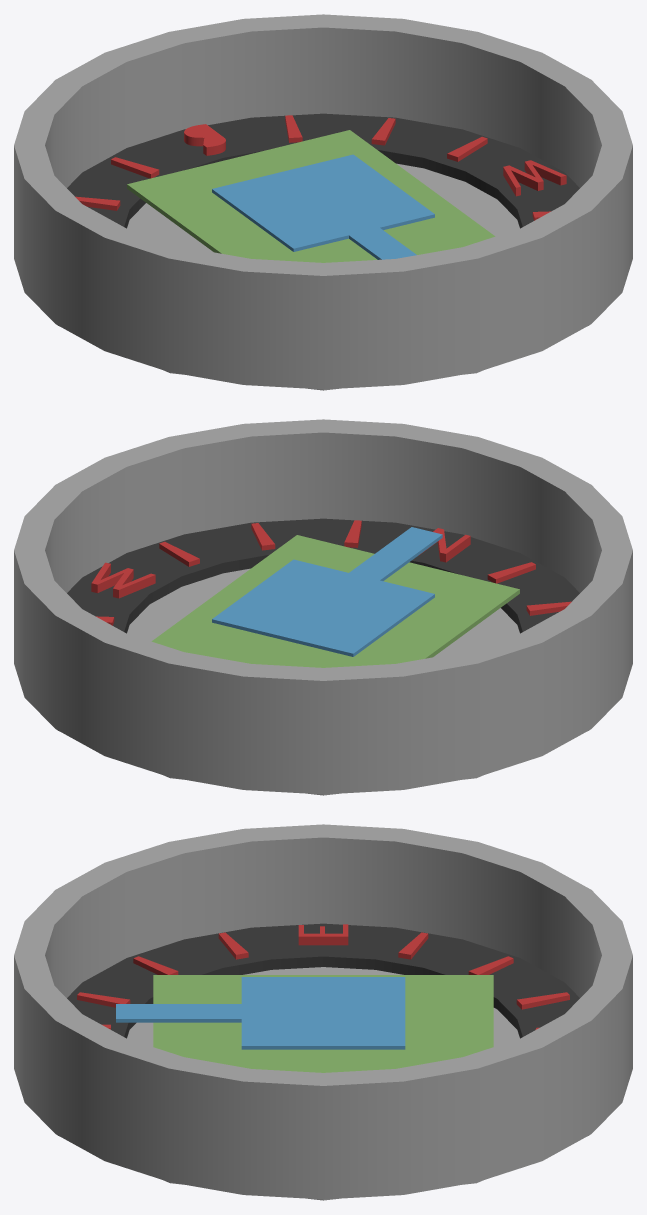
File: Tank_Compass_Meshes_12_4.fbx
3 renders of one model, top to bottom at view 1: azimuth 30°, elevation 25°; view 2: azimuth 150°, elevation 25°; view 3: azimuth 270°, elevation 25°, orthographic.
Parts seen in each view (by area): view 1: Compass_Body, NWSE_Body, Body_Spindle, Turret_Spindle, Dashes, W, S; view 2: Compass_Body, Body_Spindle, NWSE_Body, Turret_Spindle, Dashes, W, N; view 3: Compass_Body, NWSE_Body, Body_Spindle, Turret_Spindle, Dashes, E.
Part boxes in pixels (bbox=[...]): Compass_Body: bbox=[14, 14, 632, 390]; NWSE_Body: bbox=[67, 113, 579, 228]; Body_Spindle: bbox=[127, 130, 495, 262]; Turret_Spindle: bbox=[212, 154, 434, 259]; Dashes: bbox=[75, 115, 550, 220]; W: bbox=[503, 160, 566, 196]; S: bbox=[184, 124, 225, 155]; Compass_Body: bbox=[14, 419, 632, 795]; Body_Spindle: bbox=[151, 535, 519, 667]; NWSE_Body: bbox=[67, 518, 579, 633]; Turret_Spindle: bbox=[212, 527, 442, 656]; Dashes: bbox=[96, 520, 571, 625]; W: bbox=[91, 562, 155, 598]; N: bbox=[418, 528, 470, 562]; Compass_Body: bbox=[14, 824, 632, 1200]; NWSE_Body: bbox=[67, 923, 579, 1038]; Body_Spindle: bbox=[153, 975, 493, 1072]; Turret_Spindle: bbox=[116, 977, 405, 1049]; Dashes: bbox=[77, 932, 569, 1009]; E: bbox=[298, 924, 348, 945].
Size of the model in its own units: 2.61 by 0.5386 by 2.61.
